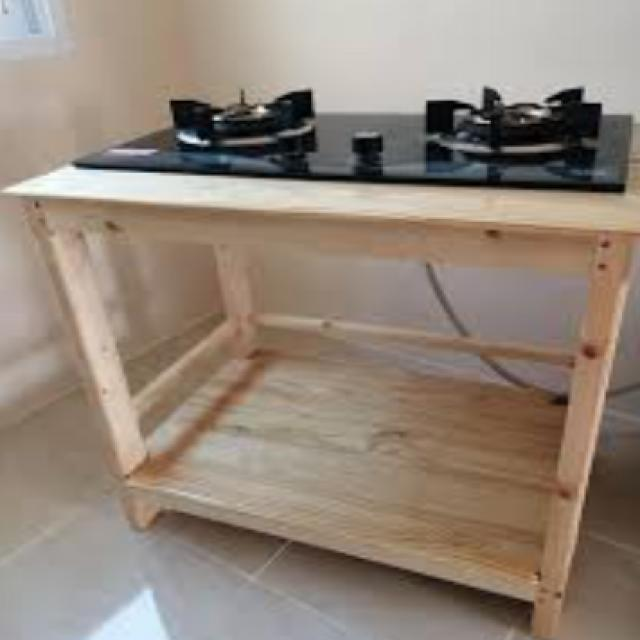table: (6, 73, 638, 630)
